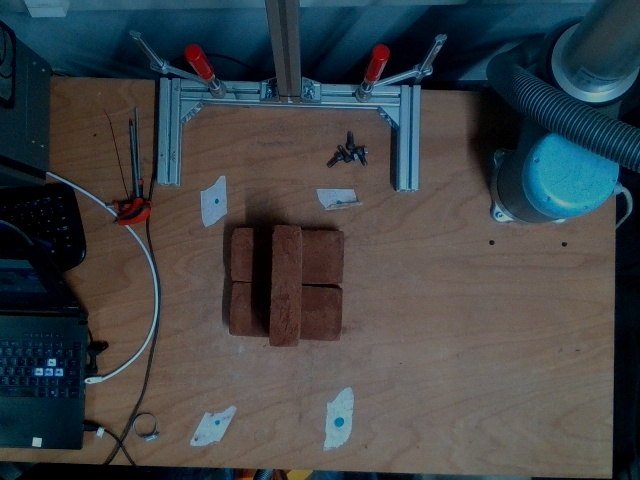brick-side: (268, 225, 302, 348)
